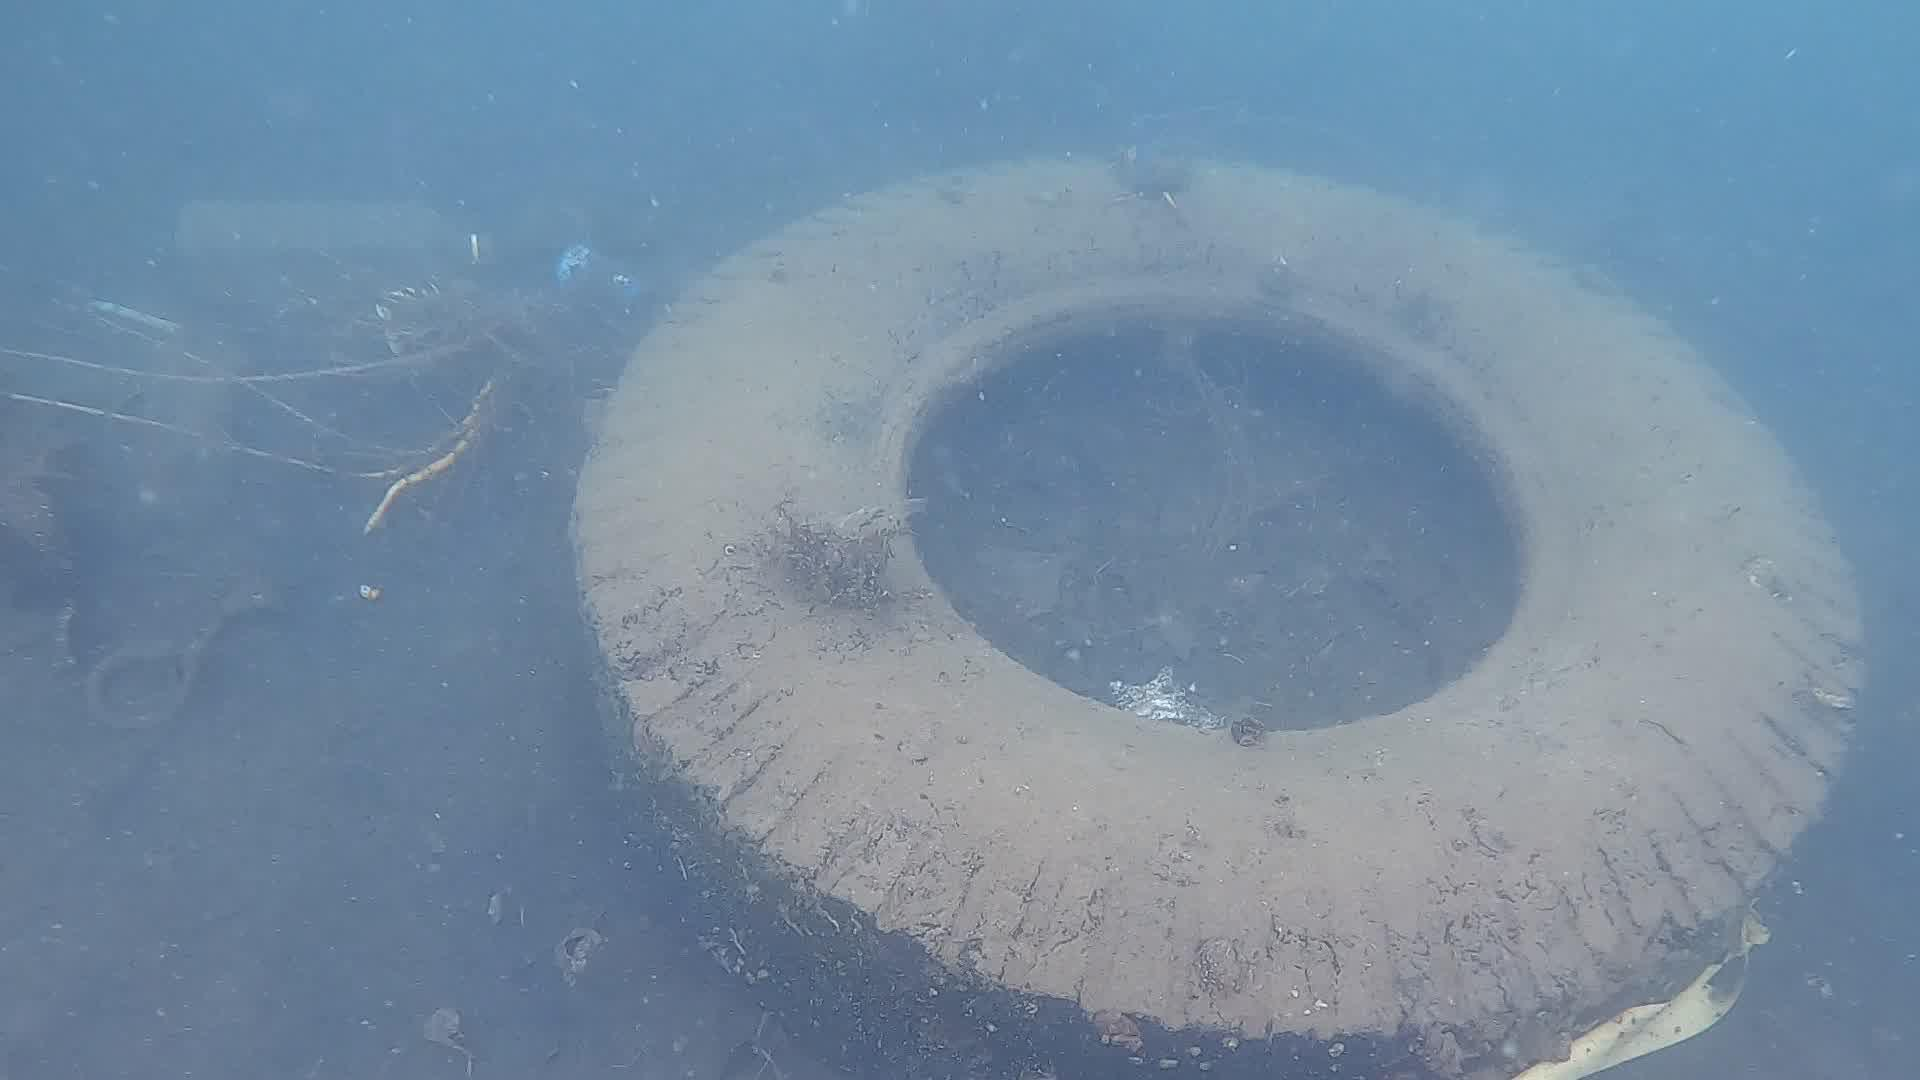tire: (570, 152, 1874, 1079)
